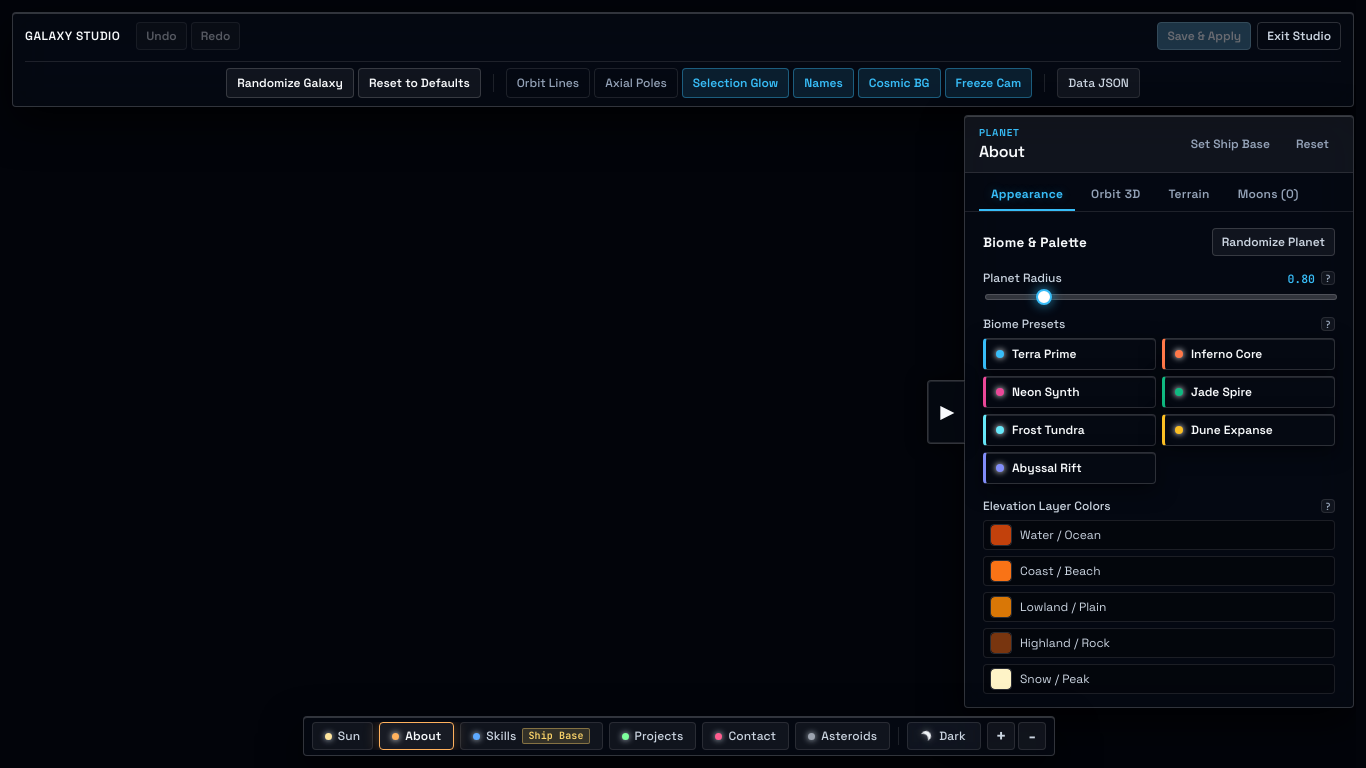
Scenario: GalaxyStudio Component & UX Features › handles multiple consecutive biome preset changes and unwinds them sequentially with Ctrl+Z
The image size is (1366, 768).
Click the button with class "studio-preset-chip" showing "Terra Prime" at (1070, 354), box 983,338 -> 1156,370
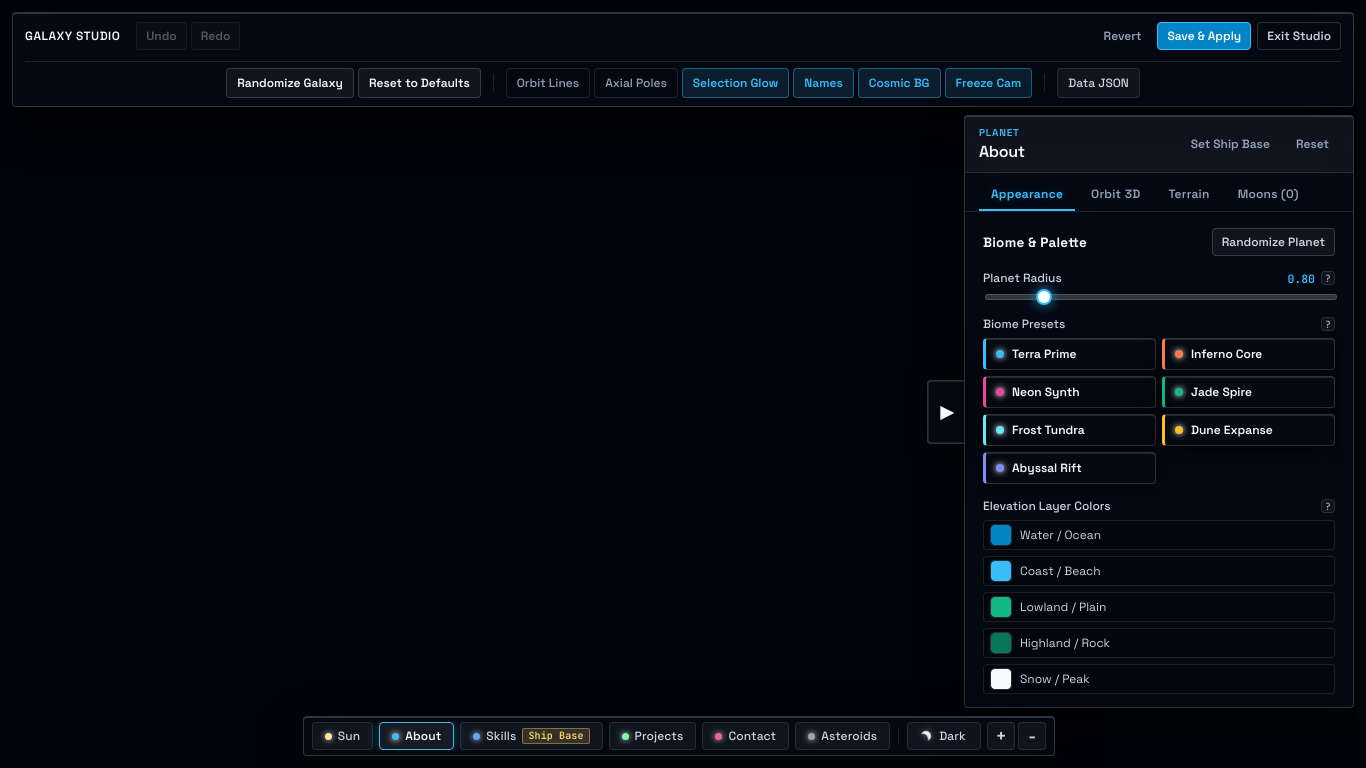
Click the button with class "studio-preset-chip" showing "Inferno Core" at (1248, 354), box 1162,338 -> 1335,370
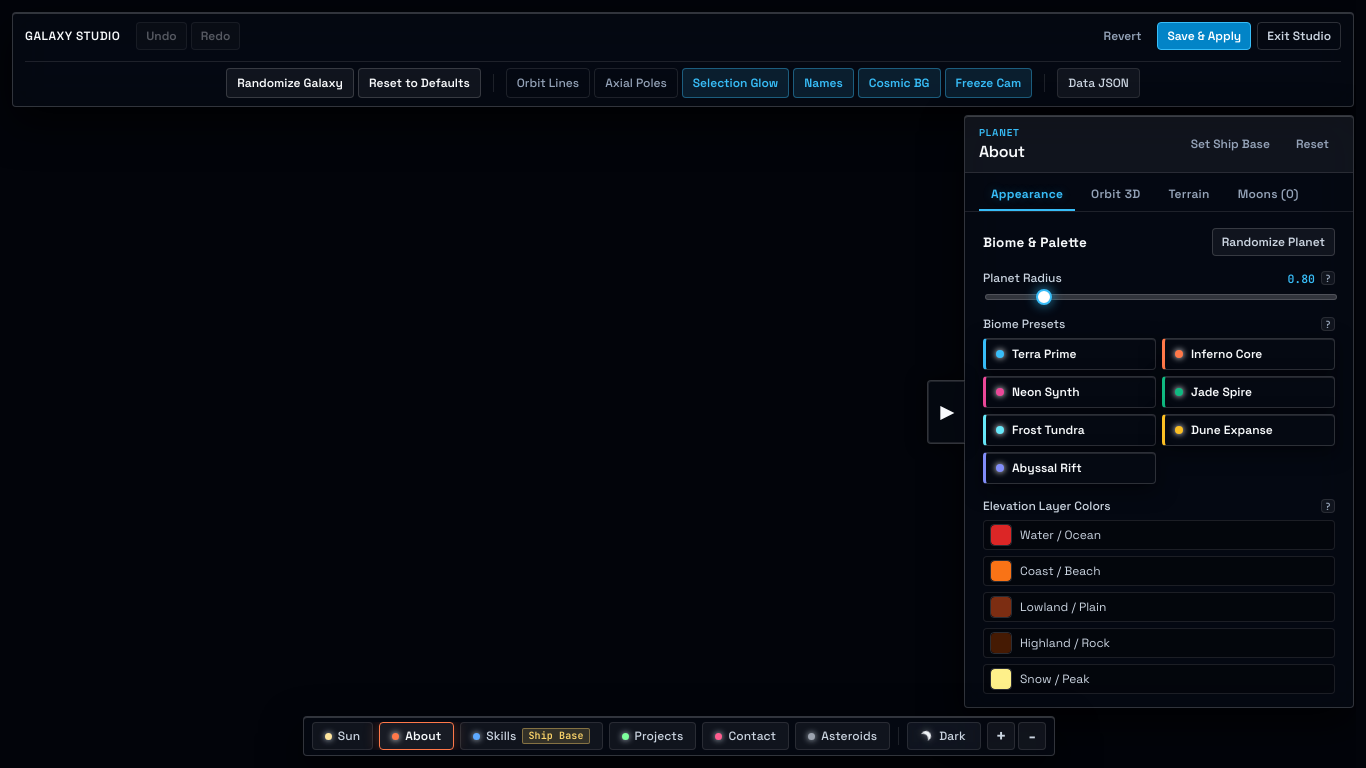
Click the button with class "studio-preset-chip" showing "Neon Synth" at (1070, 392), box 983,376 -> 1156,408
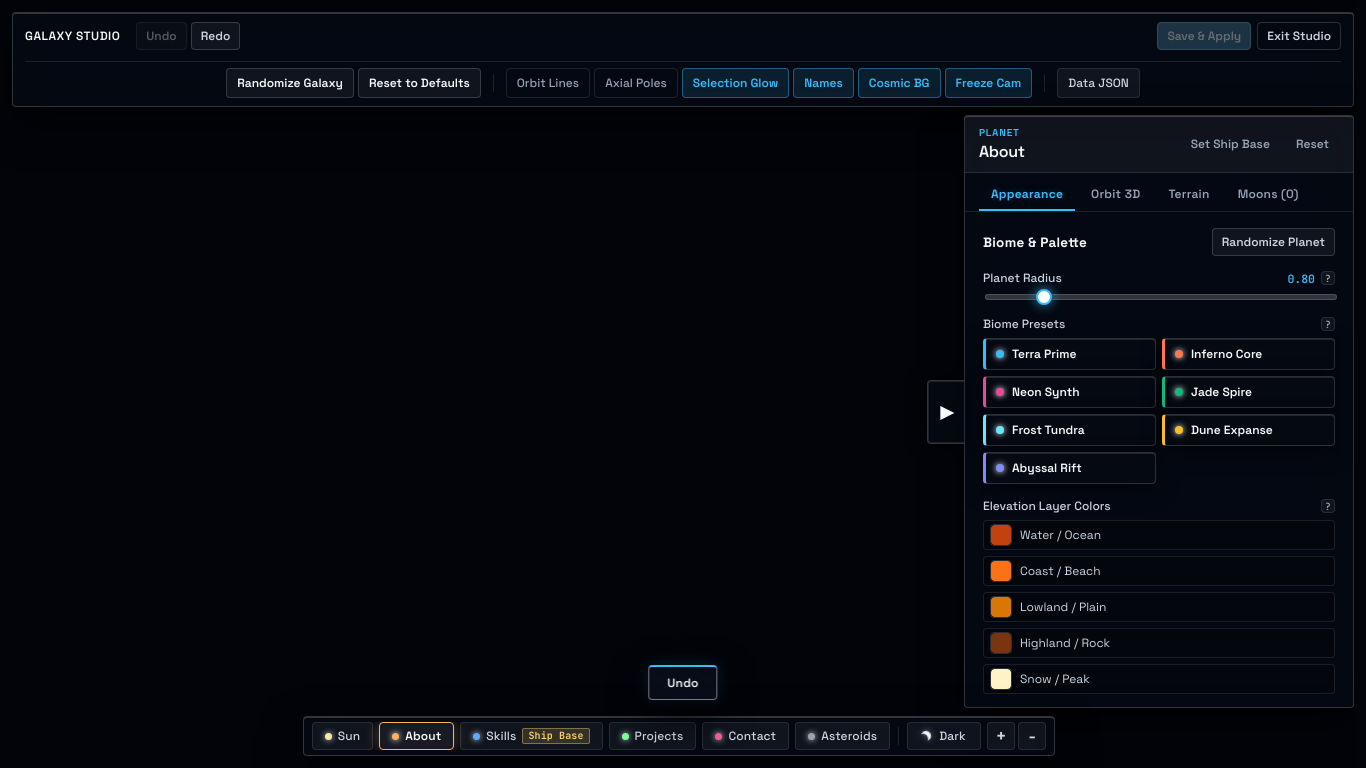
Result: the colour field labelled "Water / Ocean" does not hold "#a855f7" at 990,524 -> 1012,546
Result: the colour field labelled "Water / Ocean" holds "#c2410c" at 990,524 -> 1012,546
